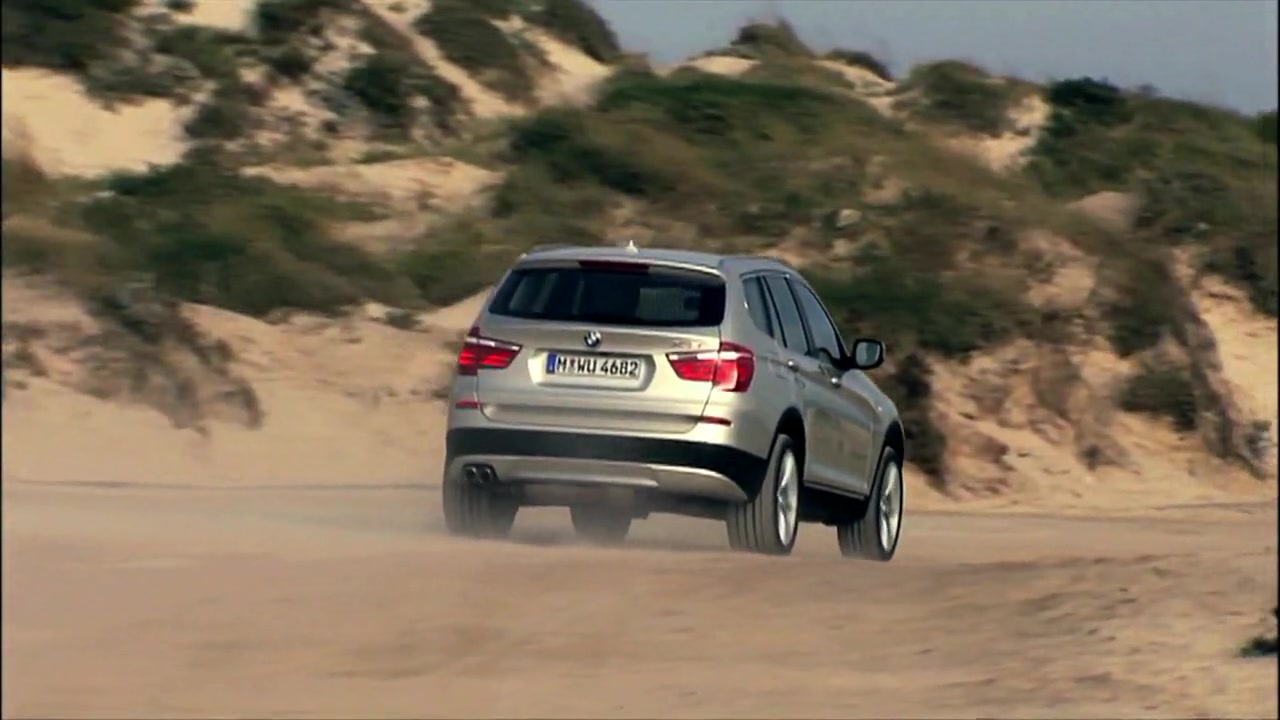car: (438, 243, 910, 562)
